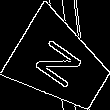N_SE: (31, 34, 90, 95)
